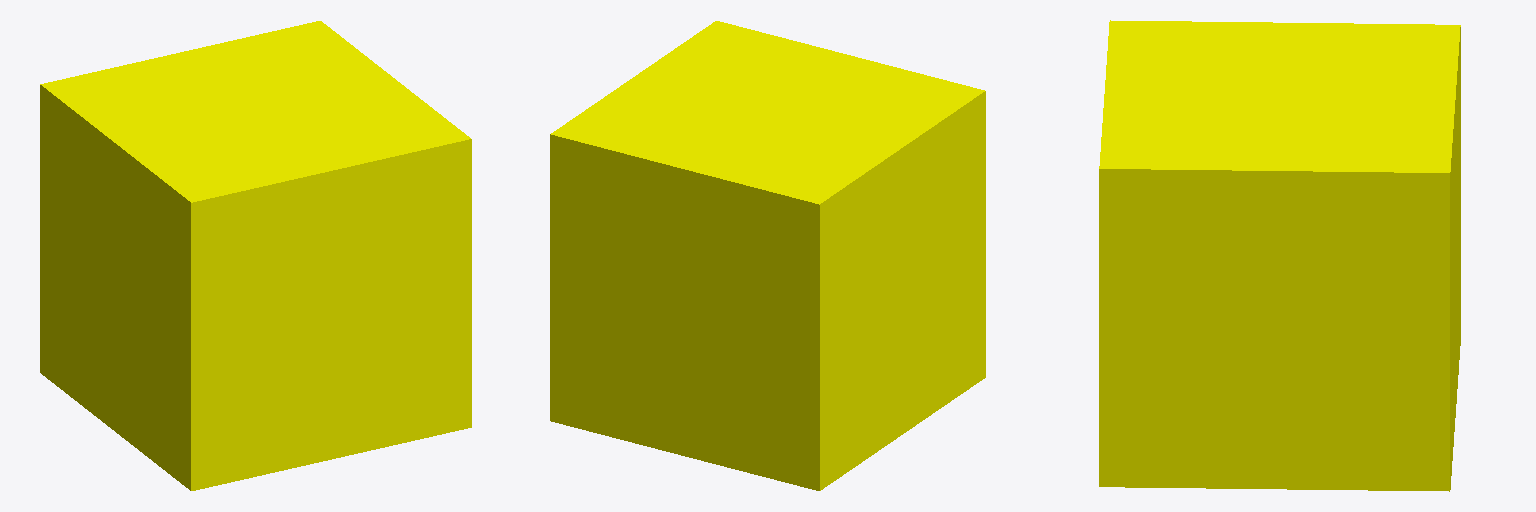
URDF robot description (techtrix_robot):
<?xml version="1.0" ?>
<!-- =================================================================================== -->
<!-- |    This document was autogenerated by xacro from [local-path]/techtrix_ws/src/techtrix_description/urdf/techtrix.xacro | -->
<!-- |    EDITING THIS FILE BY HAND IS NOT RECOMMENDED                                 | -->
<!-- =================================================================================== -->
<robot name="techtrix_robot">
    <!-- Size of square 'camera' box -->
    <material name="black">
        <color rgba="0.0 0.0 0.0 1.0" />
    </material>
    <material name="blue">
        <color rgba="0.0 0.0 0.8 1.0" />
    </material>
    <material name="green">
        <color rgba="0.0 0.8 0.0 1.0" />
    </material>
    <material name="grey">
        <color rgba="0.2 0.2 0.2 1.0" />
    </material>
    <material name="orange">
        <color rgba="1.0 0.4235294117647059 0.0392156862745098 1.0" />
    </material>
    <material name="brown">
        <color rgba="0.8705882352941177 0.8117647058823529 0.7647058823529411 1.0" />
    </material>
    <material name="red">
        <color rgba="0.8 0.0 0.0 1.0" />
    </material>
    <material name="white">
        <color rgba="1.0 1.0 1.0 1.0" />
    </material>
    <!-- camera -->
    <gazebo reference="camera_link">
        <!--The link name must match the link name of the URDF model -->
        <sensor name="camera1" type="camera">
            <!-- The name "camera1" must be unique from all other sensors -->
            <update_rate>30.0</update_rate>
            <!-- Number of times per second a new camera image is taken within Gazebo -->
            <!-- This is the maximum update rate the sensor will attempt during simulation 
                                           but it could fall behind this target rate if the physics simulation runs 
                                           faster than the sensor generation can keep up.-->
            <!-- Next, we set upp the manufacturer;s spects of our physical camera hardware -->
            <!-- Note that the pixels are assumed to be square -->
            <camera name="head">
                <horizontal_fov>1.3962634</horizontal_fov>
                <image>
                    <width>800</width>
                    <height>800</height>
                    <format>R8G8B8</format>
                </image>
                <!-- The near and far clips are simulation-specific 
             parameters that give an upper and lower bound to the distance
             in which the cameras can see objects in the simulation.
             This is specified in the camera's optometry frame. -->
                <clip>
                    <near>0.02</near>
                    <far>300</far>
                </clip>
                <noise>
                    <type>gaussian</type>
                    <!-- Noise is sampled independently per pixel on each frame.
               That pixel's noise value is added to each of its color
               channels, which at that point lie in the range [0,1]. -->
                    <mean>0.0</mean>
                    <stddev>0.007</stddev>
                </noise>
            </camera>
            <!-- This is where the actual gazebo_ros/gazebo_ros_camera.cpp file is linked to, as a shared object -->
            <plugin filename="libgazebo_ros_camera.so" name="camera_controller">
                <alwaysOn>true</alwaysOn>
                <updateRate>0.0</updateRate>
                <!-- We define the rostopic the camera will be publishing to, for both the image topic and the camera info topic -->
                <cameraName>techtrix/camera1</cameraName>
                <imageTopicName>image_raw</imageTopicName>
                <cameraInfoTopicName>camera_info</cameraInfoTopicName>
                <!-- Hence, for techtrix robot, you should subscribe to:
             /techtrix/camera1/image_raw
             /techtrix/camera1/camera_info-->
                <!-- Finally, we set the coordinate frame the image 
             is published under in the tf tree.-->
                <frameName>camera_link</frameName>
                <hackBaseline>0.07</hackBaseline>
                <distortionK1>0.0</distortionK1>
                <distortionK2>0.0</distortionK2>
                <distortionK3>0.0</distortionK3>
                <distortionT1>0.0</distortionT1>
                <distortionT2>0.0</distortionT2>
            </plugin>
            <!-- <plugin name="gazebo_light_sensor_plugin" filename="libgazebo_light_sensor_plugin.so">
         <cameraName>techtrix/camera1</cameraName>
         <alwaysOn>true</alwaysOn>
         <updateRate>0.0</updateRate>
         <imageTopicName>image_raw</imageTopicName>
         <depthImageTopicName>depth/image_raw</depthImageTopicName>
         <pointCloudTopicName>depth/points</pointCloudTopicName>
         <cameraInfoTopicName>camera_info</cameraInfoTopicName>
         <depthImageCameraInfoTopicName>depth/camera_info</depthImageCameraInfoTopicName>
         <frameName>camera_link</frameName>
         <hackBaseline>0.07</hackBaseline>
         <distortionK1>0.0</distortionK1>
         <distortionK2>0.0</distortionK2>
         <distortionK3>0.0</distortionK3>
         <distortionT1>0.0</distortionT1>
         <distortionT2>0.0</distortionT2>
         <pointCloudCutoff>0.4</pointCloudCutoff>
         <robotNamespace>/</robotNamespace>
       </plugin> -->
            <plugin filename="libgazebo_thermal_sensor_plugin.so" name="gazebo_thermal_sensor_plugin">
                <cameraName>techtrix/thermal1</cameraName>
                <alwaysOn>true</alwaysOn>
                <updateRate>0.0</updateRate>
                <imageTopicName>image_raw</imageTopicName>
                <depthImageTopicName>depth/image_raw</depthImageTopicName>
                <pointCloudTopicName>depth/points</pointCloudTopicName>
                <cameraInfoTopicName>camera_info</cameraInfoTopicName>
                <depthImageCameraInfoTopicName>depth/camera_info</depthImageCameraInfoTopicName>
                <frameName>camera_link</frameName>
                <robotNamespace>/</robotNamespace>
            </plugin>
            <controller name="thermal_camera_controller" plugin="libgazebo_ros_thermal_depth_camera.so" type="gazebo_ros_thermal_camera">
                <alwaysOn>true</alwaysOn>
                <updateRate>10</updateRate>
                <imageTopicName>/thermal_camera/image_raw</imageTopicName>
                <cameraInfoTopicName>/thermal_camera/camera_info</cameraInfoTopicName>
                <frameName>thermal_optical_frame</frameName>
                <interface name="thermal_camera_iface" type="camera" />
            </controller>
        </sensor>
        <plugin name="gazebo_ros_control">
            <robotNamespace>/</robotNamespace>
        </plugin>
    </gazebo>
    <!-- Used for fixing robot to Gazebo 'base_link' -->
    <link name="world" />
    <link name="frame">
        <collision>
            <origin xyz="0 0 -0.96" />
            <geometry>
                <box size="1.5 1.6 0.3" />
            </geometry>
        </collision>
        <collision>
            <origin xyz="0 0 1.105" />
            <geometry>
                <box size="1.5 1.6 0.12" />
            </geometry>
        </collision>
        <collision>
            <origin xyz="0 0.745 1.105" />
            <geometry>
                <box size="1.5 1.6 0.12" />
            </geometry>
        </collision>
        <collision>
            <origin xyz="0.72 0 0" />
            <geometry>
                <box size="0.1 1.6 2.3" />
            </geometry>
        </collision>
        <collision>
            <origin xyz="-0.72 0 0" />
            <geometry>
                <box size="0.1 1.6 2.3" />
            </geometry>
        </collision>
        <visual>
            <origin rpy="0 0 -1.5707963267948966" xyz="0 0.375 -2.355" />
            <geometry>
                <mesh filename="package://techtrix_description/meshes/techtrix_frame.dae" scale="0.3333333333333333 0.3333333333333333 0.3333333333333333" />
            </geometry>
        </visual>
        <inertial>
            <mass value="1" />
            <inertia ixx="1.0" ixy="0.0" ixz="0.0" iyy="1.0" iyz="0.0" izz="1.0" />
            <origin xyz="0 0 0" rpy="0 0 0" />
        </inertial>
    </link>
    <link name="bearing">
        <inertial>
            <mass value="1" />
            <inertia ixx="1.0" ixy="0.0" ixz="0.0" iyy="1.0" iyz="0.0" izz="1.0" />
        </inertial>
    </link>
    <link name="grabber">
        <collision>
            <origin xyz="0 0 -0.015" />
            <geometry>
                <box size="1.375 0.26 0.03" />
            </geometry>
        </collision>
        <visual>
            <origin rpy="0 0 -1.5707963267948966" xyz="0 -1.133 -2.7575" />
            <geometry>
                <mesh filename="package://techtrix_description/meshes/techtrix_grabber.dae" scale="0.3333333333333333 0.3333333333333333 0.3333333333333333" />
            </geometry>
        </visual>
        <inertial>
            <mass value="1" />
            <inertia ixx="1.0" ixy="0.0" ixz="0.0" iyy="1.0" iyz="0.0" izz="1.0" />
            <origin xyz="0 0 0" rpy="0 0 0" />
        </inertial>
    </link>
    <!-- Camera -->
    <link name="camera_link">
        <collision>
            <origin rpy="0 0 0" xyz="0 0 0" />
            <geometry>
                <box size="0.05 0.05 0.05" />
            </geometry>
        </collision>
        <visual>
            <origin rpy="0 0 0" xyz="0 0 0" />
            <geometry>
                <box size="0.05 0.05 0.05" />
            </geometry>
            <material name="yellow">
                <color rgba="1 1 0 1" />
            </material>
        </visual>
        <sensor name="thermal_camera" type="thermal">
            <camera>
                <horizontal_fov>1.047</horizontal_fov>
                <image>
                    <width>320</width>
                    <height>240</height>
                </image>
                <clip>
                    <near>0.1</near>
                    <far>100</far>
                </clip>
            </camera>
            <always_on>1</always_on>
            <update_rate>30</update_rate>
            <visualize>true</visualize>
            <topic>thermal_camera</topic>
        </sensor>
        <inertial>
            <mass value="1e-5" />
            <origin rpy="0 0 0" xyz="0 0 0" />
            <inertia ixx="1e-6" ixy="0" ixz="0" iyy="1e-6" iyz="0" izz="1e-6" />
        </inertial>
    </link>
    <joint name="base_joint" type="prismatic">
        <parent link="world" />
        <child link="frame" />
        <axis xyz="0 1 0" />
        <origin xyz="0 0 1.15" />
        <limit effort="1000.0" lower="0" upper="5.75" velocity="0.5" />
    </joint>
    <joint name="lifting_joint" type="prismatic">
        <parent link="frame" />
        <child link="bearing" />
        <axis xyz="0 0 1" />
        <origin xyz="0 1.5 1.025" />
        <limit effort="1000.0" lower="-1.475" upper="0" velocity="0.1" />
    </joint>
    <joint name="rotating_joint" type="revolute">
        <parent link="bearing" />
        <child link="grabber" />
        <axis xyz="0 0 1" />
        <limit effort="1000.0" lower="-1.5707963267948966" upper="0" velocity="0.5" />
    </joint>
    <joint name="camera_joint" type="fixed">
        <parent link="frame" />
        <child link="camera_link" />
        <axis xyz="0 1 0" />
        <origin rpy="0 0 -1.6" xyz="0.05 0 1" />
    </joint>
    <transmission name="base_transmission">
        <type>transmission_interface/SimpleTransmission</type>
        <joint name="base_joint">
            <hardwareInterface>hardware_interface/EffortJointInterface</hardwareInterface>
        </joint>
        <actuator name="base_motor">
            <hardwareInterface>hardware_interface/EffortJointInterface</hardwareInterface>
            <mechanicalReduction>1</mechanicalReduction>
        </actuator>
    </transmission>
    <transmission name="lifting_transmission">
        <type>transmission_interface/SimpleTransmission</type>
        <joint name="lifting_joint">
            <hardwareInterface>hardware_interface/EffortJointInterface</hardwareInterface>
        </joint>
        <actuator name="lifting_motor">
            <hardwareInterface>hardware_interface/EffortJointInterface</hardwareInterface>
            <mechanicalReduction>1</mechanicalReduction>
        </actuator>
    </transmission>
    <transmission name="rotating_transmission">
        <type>transmission_interface/SimpleTransmission</type>
        <joint name="rotating_joint">
            <hardwareInterface>hardware_interface/EffortJointInterface</hardwareInterface>
        </joint>
        <actuator name="rotating_motor">
            <hardwareInterface>hardware_interface/EffortJointInterface</hardwareInterface>
            <mechanicalReduction>1</mechanicalReduction>
        </actuator>
    </transmission>
    <gazebo>
        <plugin filename="libgazebo_ros_control.so" name="gazebo_ros_control">
            <robotNamespace>/techtrix</robotNamespace>
            <robotParam>/techtrix_description</robotParam>
        </plugin>
    </gazebo>
</robot>

--- Render facts (derived) ---
3 views of the same robot in one strip: view 1: azimuth 30°, elevation 25°; view 2: azimuth 150°, elevation 25°; view 3: azimuth 270°, elevation 25° (orthographic).
Robot: techtrix_robot — 5 links, 4 joints (1 revolute, 2 prismatic, 1 fixed); root link world; default pose: all joints at 0.
Links seen in each view (by area): view 1: camera_link; view 2: camera_link; view 3: camera_link.
Boxes of the visible links, bbox=[...] form: camera_link: bbox=[40, 21, 471, 490]; camera_link: bbox=[550, 21, 985, 490]; camera_link: bbox=[1099, 20, 1460, 491].
Size in the robot's own frame: 0.0514 by 0.0514 by 0.05 metres.
Meshes: 2 distinct files referenced, 0 mesh visuals loaded (none loaded); not drawn: 2 (reference not matched to a file when rendering).